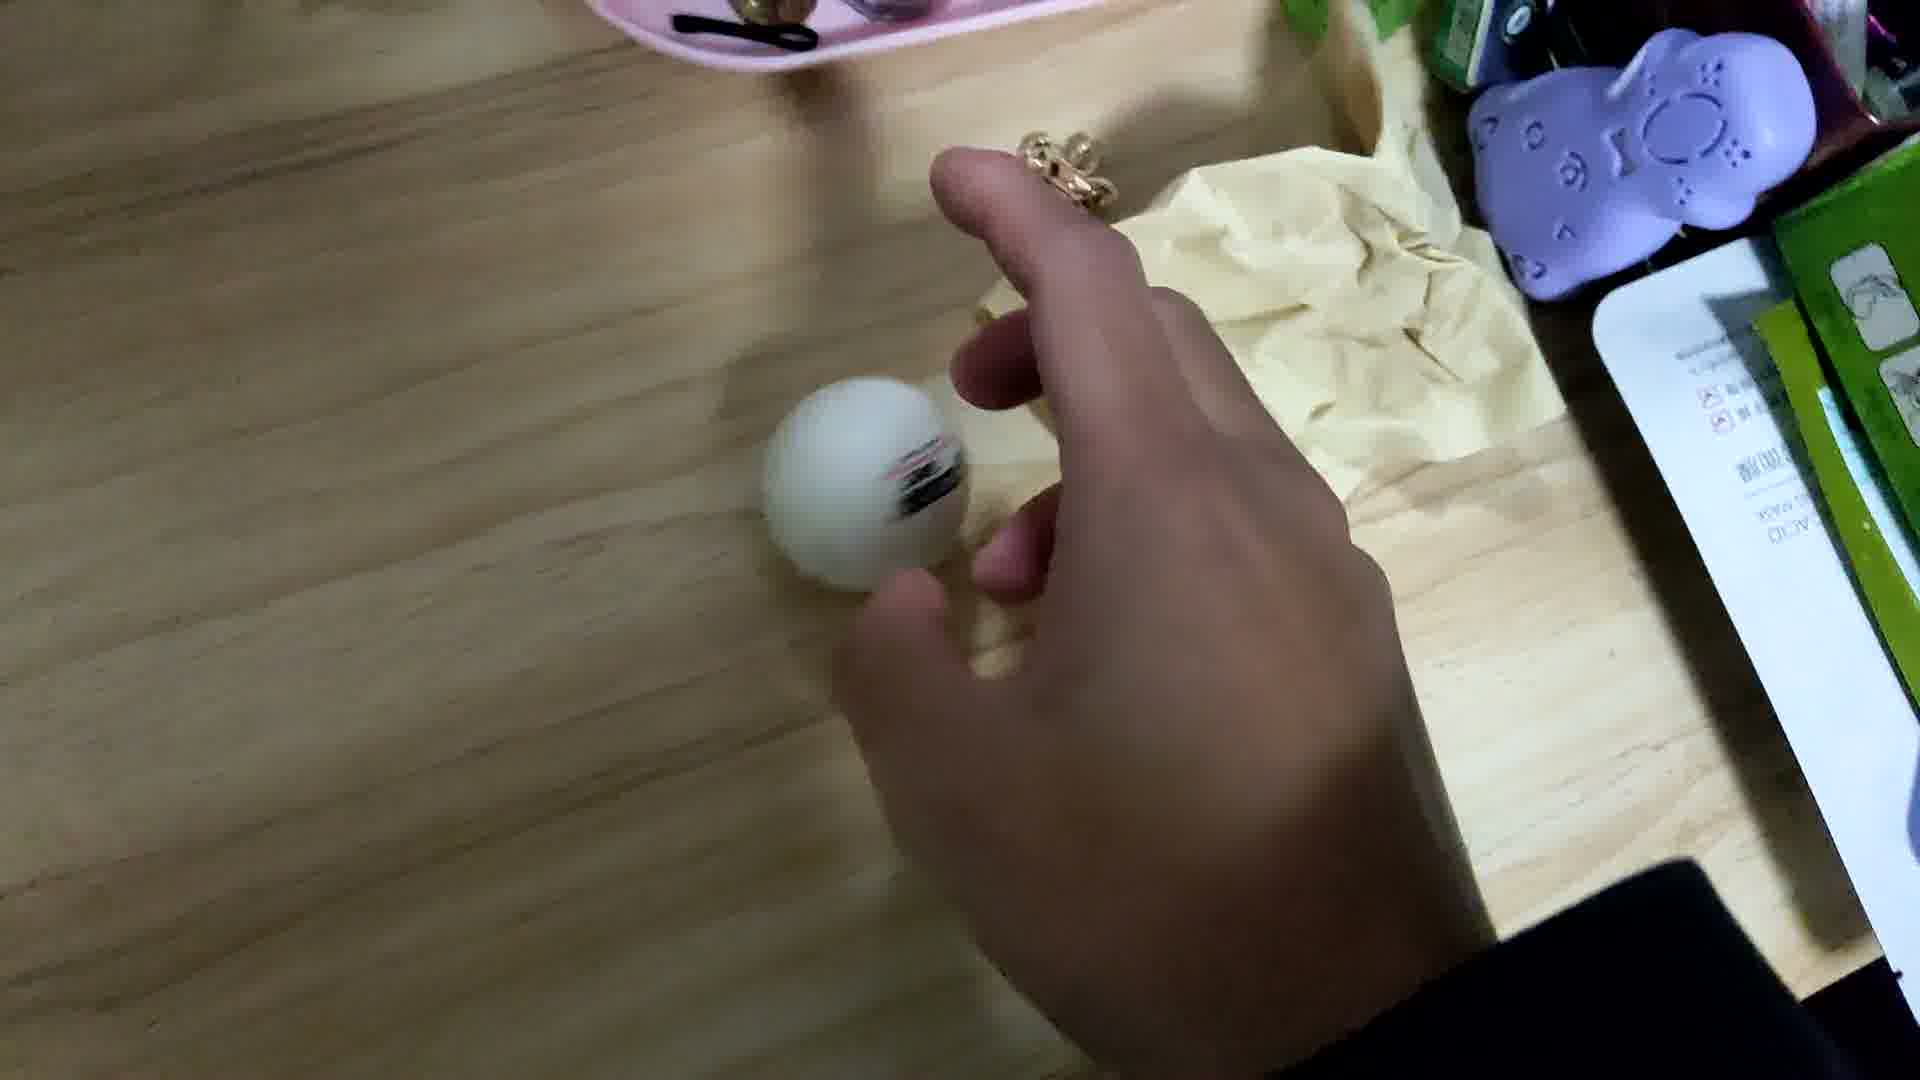Ball: (762, 371, 971, 592)
